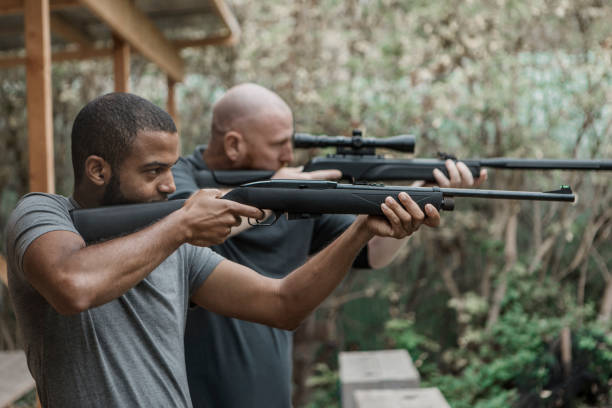gun: (68, 175, 577, 246), (211, 132, 612, 186)
